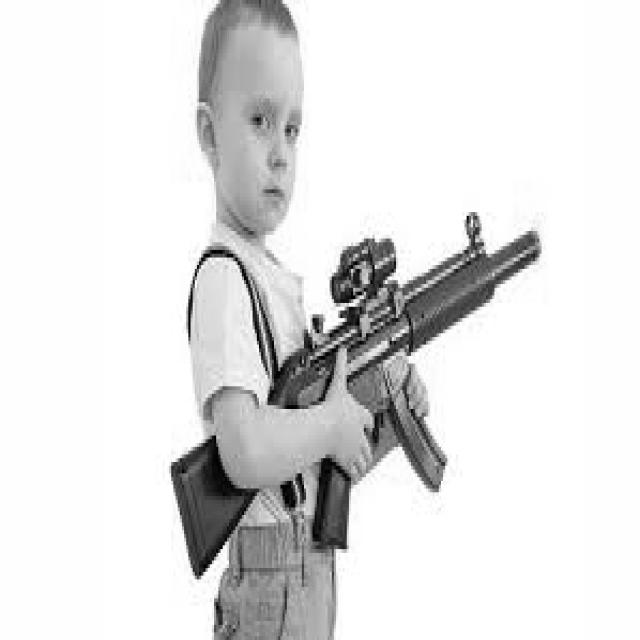rifle: (169, 205, 544, 581)
